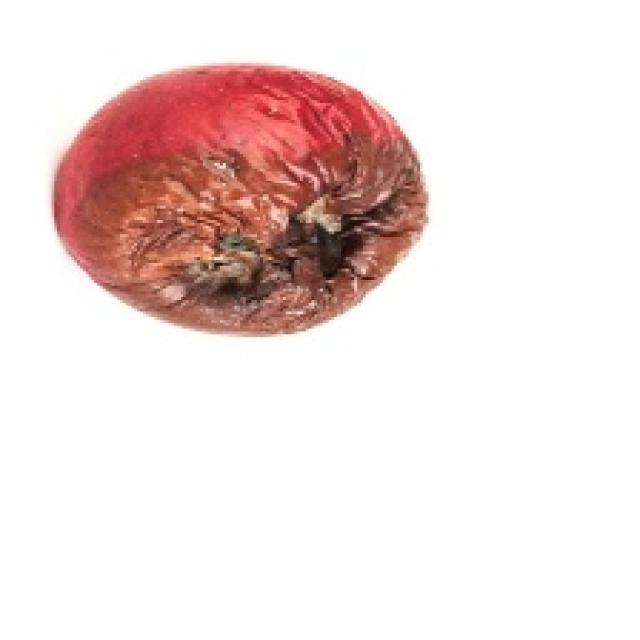rotten_apple: (58, 68, 424, 330)
